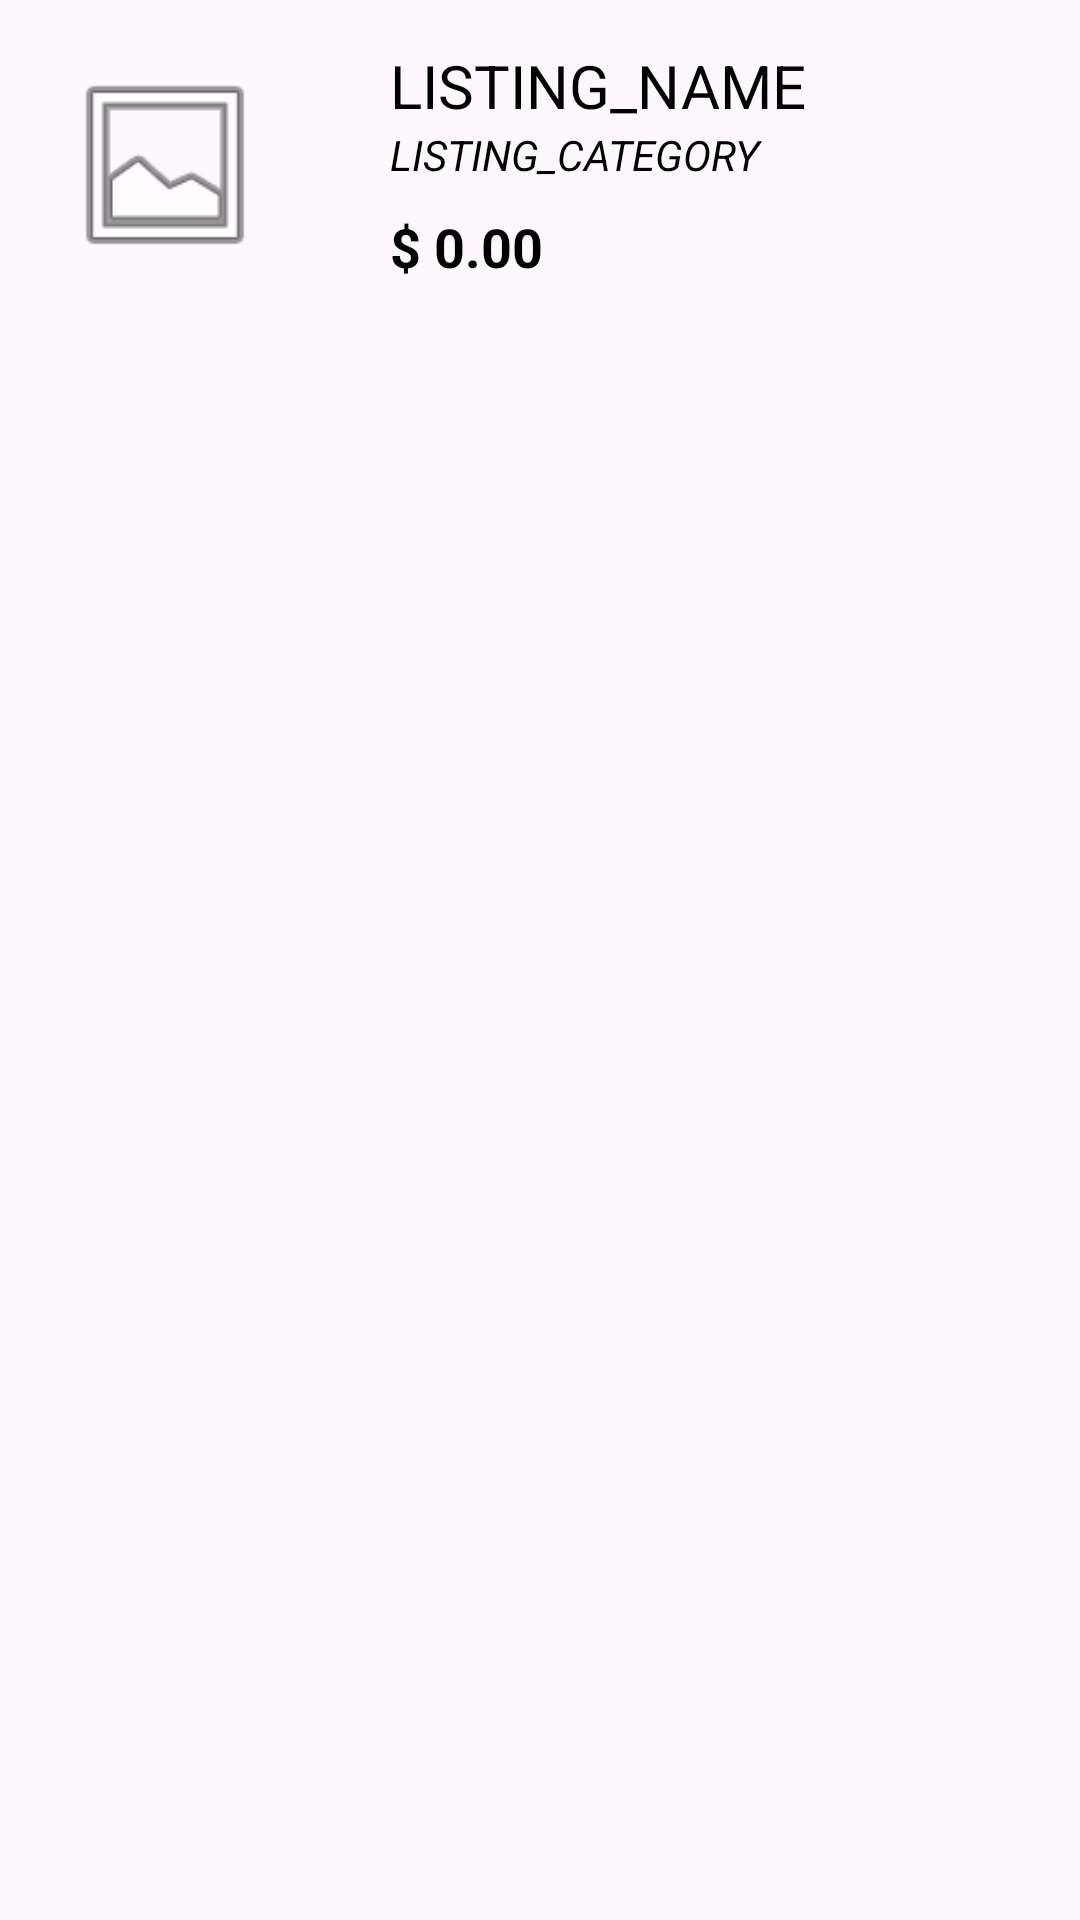

Named icons in this screenshot (1080 x 1920) and their centers, (x,y):
gallery: (165,165)
